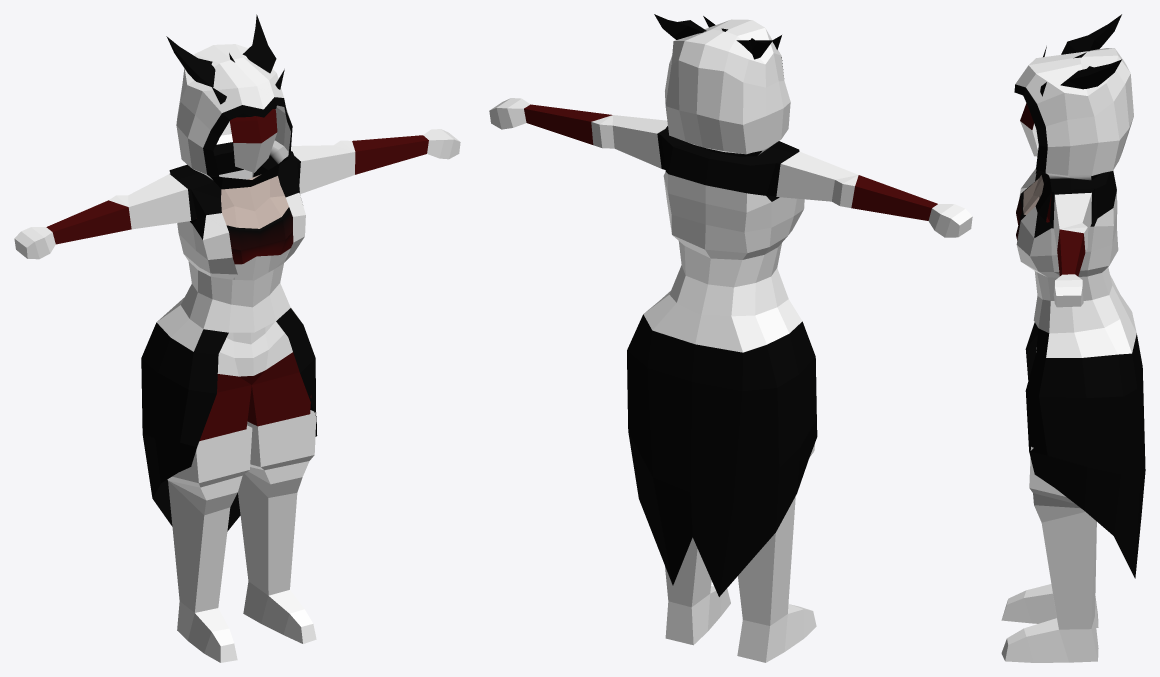
Rendered from RedAssassinUnrigged.fbx.
3 views of the same model, side by side, from view 1: azimuth 30°, elevation 25°; view 2: azimuth 150°, elevation 25°; view 3: azimuth 270°, elevation 25° (orthographic). The views are drawn at different scales.
Parts seen in each view (by area): view 1: polySurface1088; view 2: polySurface1088; view 3: polySurface1088.
Part boxes in pixels (bbox=[...]): polySurface1088: bbox=[14, 14, 460, 662]; polySurface1088: bbox=[489, 14, 972, 662]; polySurface1088: bbox=[1001, 14, 1145, 662].
Bounding box in the file's own units: 1.38 × 1.77 × 0.3845.
